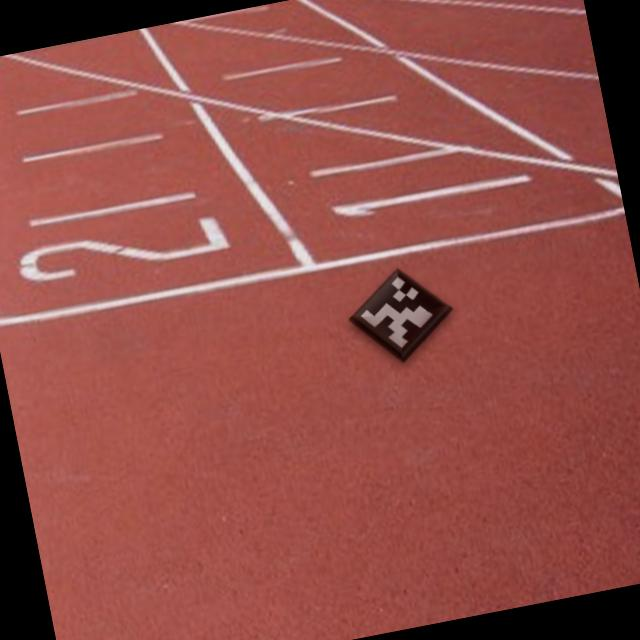marker: (334, 250, 471, 378)
